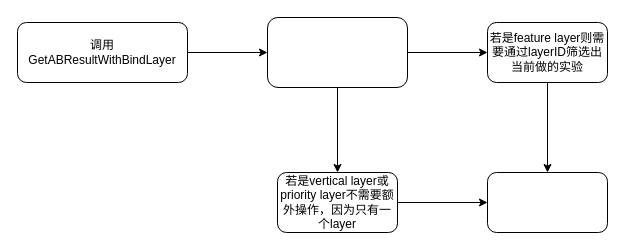
Image size: 625x250. Some labels were removed from this diagram. The box of each missing label's shape, as (x1, y1, x2, y2) in pixels:
解析BackExpHit里paramter判断命中了实验的哪个组: (486, 172, 608, 232)
通过layerID判断命中feature layer，vertical layer，priority layer中的哪一个layer: (266, 16, 408, 88)
